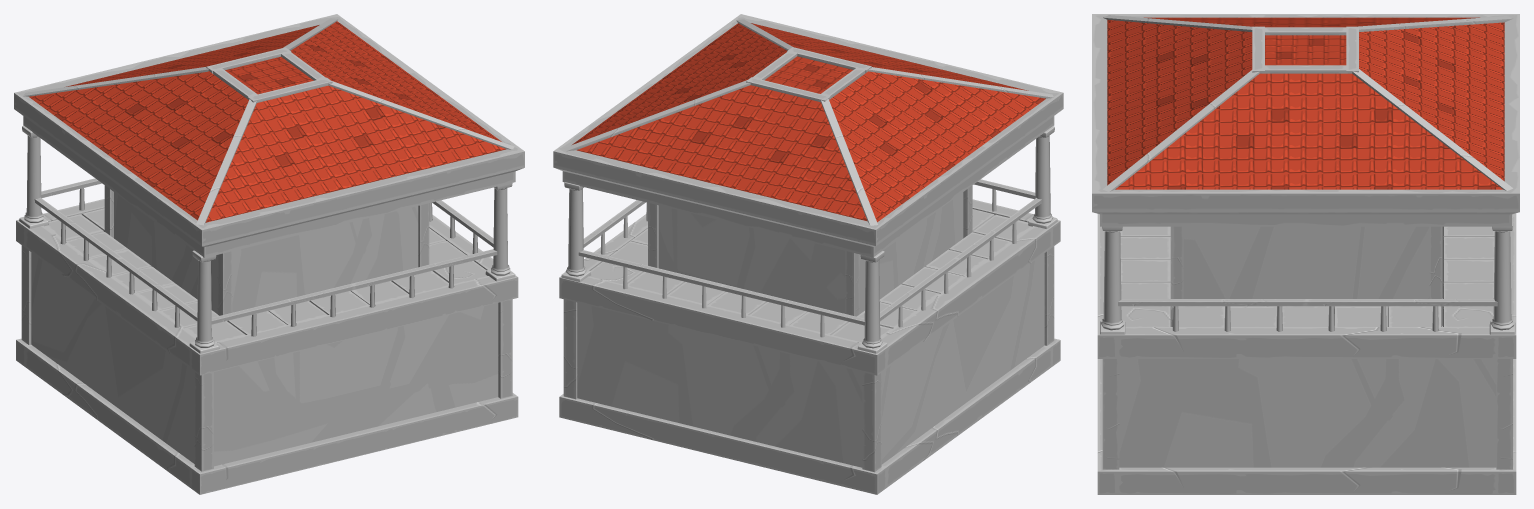
File: House2.fbx
3 views of the same model, side by side, from view 1: azimuth 30°, elevation 25°; view 2: azimuth 150°, elevation 25°; view 3: azimuth 270°, elevation 25° (orthographic). The views are drawn at different scales.
Parts seen in each view (by area): view 1: House2; view 2: House2; view 3: House2.
Part boxes in pixels (x1,y1,x2,y2): House2: [14, 14, 524, 494]; House2: [553, 14, 1063, 494]; House2: [1092, 14, 1519, 494].
Bounding box in the file's own units: 1914 × 1790 × 1926.
